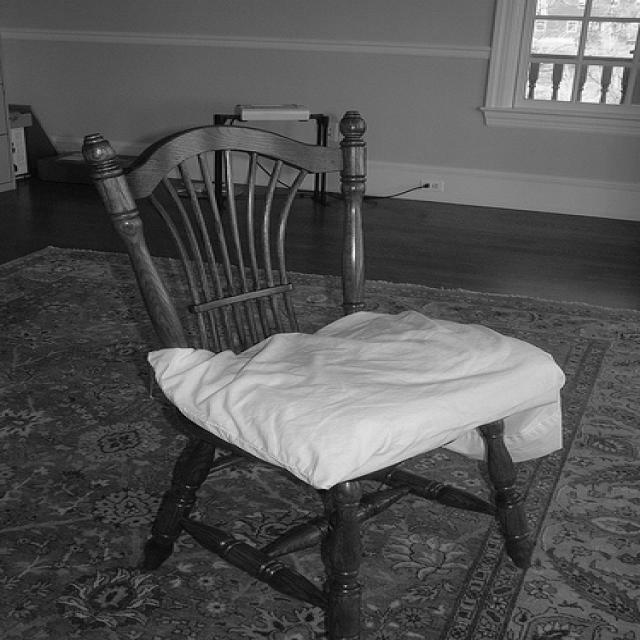chair: (80, 112, 567, 637)
